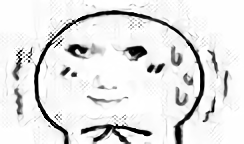dragon: (65, 41, 148, 107)
